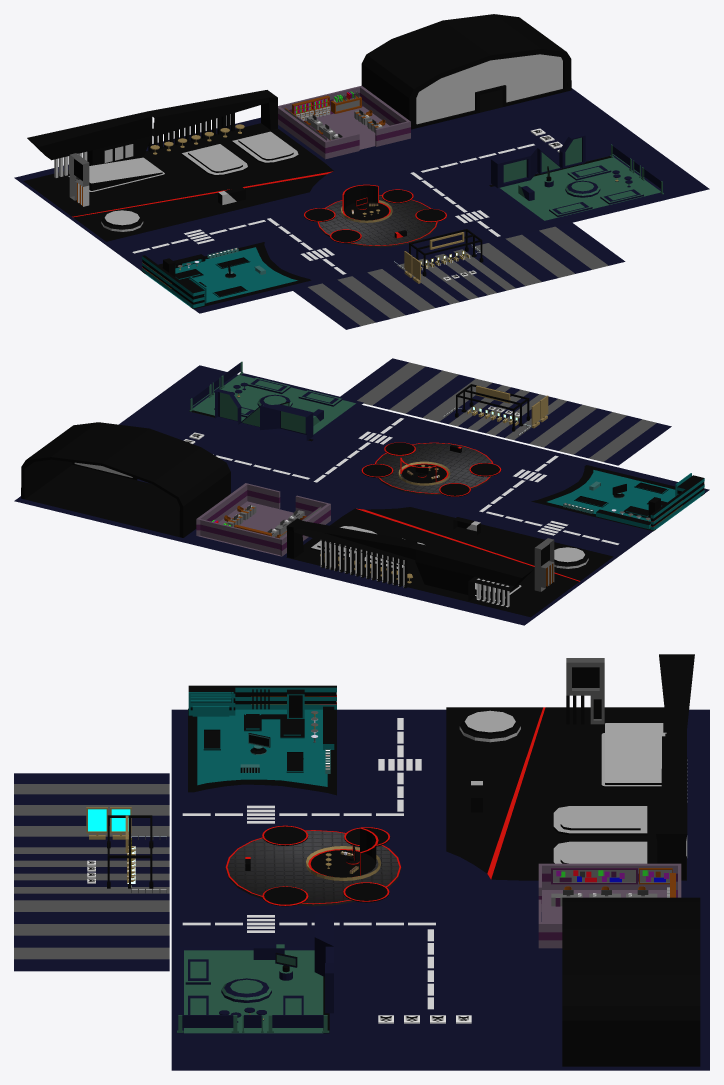
The model's file is Level (04).fbx.
3 renders of one model, top to bottom at view 1: azimuth 30°, elevation 25°; view 2: azimuth 150°, elevation 25°; view 3: azimuth 270°, elevation 25°, orthographic. The views are drawn at different scales.
Visible parts, largest first — view 1: Plane.010, Cube.076, Plane.009, Plane.005, Cube.018, Cube.139, Plane.004, Plane, Circle.001, Cube.013, Plane.006, Circle.006 (+8 smaller); view 2: Plane.010, Cube.076, Plane.009, Plane.005, Cube.018, Cube.139, Plane, Circle.001, Plane.004, Cube.013, Cube.020, Cube (+5 smaller); view 3: Plane.010, Plane.009, Plane.005, Cube.076, Plane, Plane.004, Circle.001, Cube.018, Plane.006, Cube.139, Cube, Plane.008 (+16 smaller).
Part boxes in pixels (x1=…): Plane.010: x1=14, y1=88, x2=709, y2=313; Cube.076: x1=361, y1=14, x2=571, y2=129; Plane.009: x1=293, y1=222, x2=625, y2=329; Plane.005: x1=23, y1=123, x2=333, y2=241; Cube.018: x1=27, y1=90, x2=277, y2=165; Cube.139: x1=278, y1=85, x2=410, y2=159; Plane.004: x1=489, y1=156, x2=664, y2=223; Plane: x1=142, y1=242, x2=311, y2=309; Circle.001: x1=317, y1=195, x2=437, y2=247; Cube.013: x1=491, y1=133, x2=585, y2=188; Plane.006: x1=68, y1=157, x2=164, y2=192; Circle.006: x1=341, y1=184, x2=392, y2=222; Plane.010: x1=14, y1=365, x2=709, y2=625; Cube.076: x1=21, y1=422, x2=230, y2=537; Plane.009: x1=340, y1=358, x2=671, y2=465; Plane.005: x1=286, y1=507, x2=613, y2=617; Cube.018: x1=286, y1=518, x2=533, y2=601; Cube.139: x1=196, y1=483, x2=330, y2=556; Plane: x1=531, y1=465, x2=704, y2=531; Circle.001: x1=375, y1=442, x2=492, y2=494; Plane.004: x1=189, y1=373, x2=363, y2=441; Cube.013: x1=215, y1=389, x2=313, y2=441; Cube.020: x1=320, y1=538, x2=407, y2=588; Cube: x1=650, y1=475, x2=704, y2=530; Plane.010: x1=171, y1=709, x2=709, y2=1070; Plane.009: x1=14, y1=773, x2=169, y2=971; Plane.005: x1=446, y1=707, x2=686, y2=880; Cube.076: x1=562, y1=897, x2=700, y2=1066; Plane: x1=188, y1=708, x2=336, y2=795; Plane.004: x1=176, y1=946, x2=329, y2=1033; Circle.001: x1=225, y1=830, x2=401, y2=906; Cube.018: x1=656, y1=654, x2=694, y2=879; Plane.006: x1=601, y1=723, x2=666, y2=787; Cube.139: x1=538, y1=863, x2=681, y2=948; Cube: x1=188, y1=685, x2=336, y2=715; Plane.008: x1=553, y1=806, x2=647, y2=835.
Size of the model in its own units: 13288 by 1409 by 10807.
Materials: 34 (4 with a texture image).
